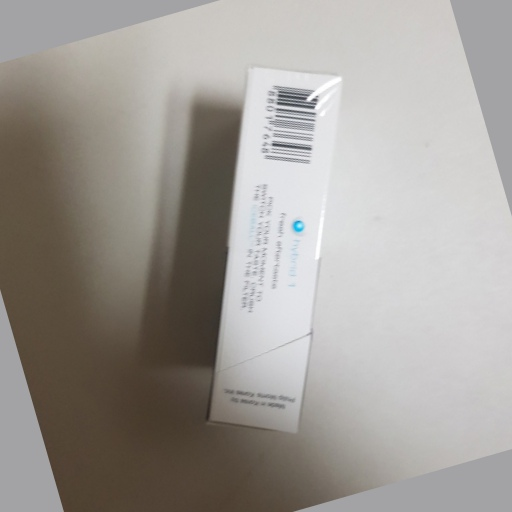Paper_0: (190, 62, 340, 441)
